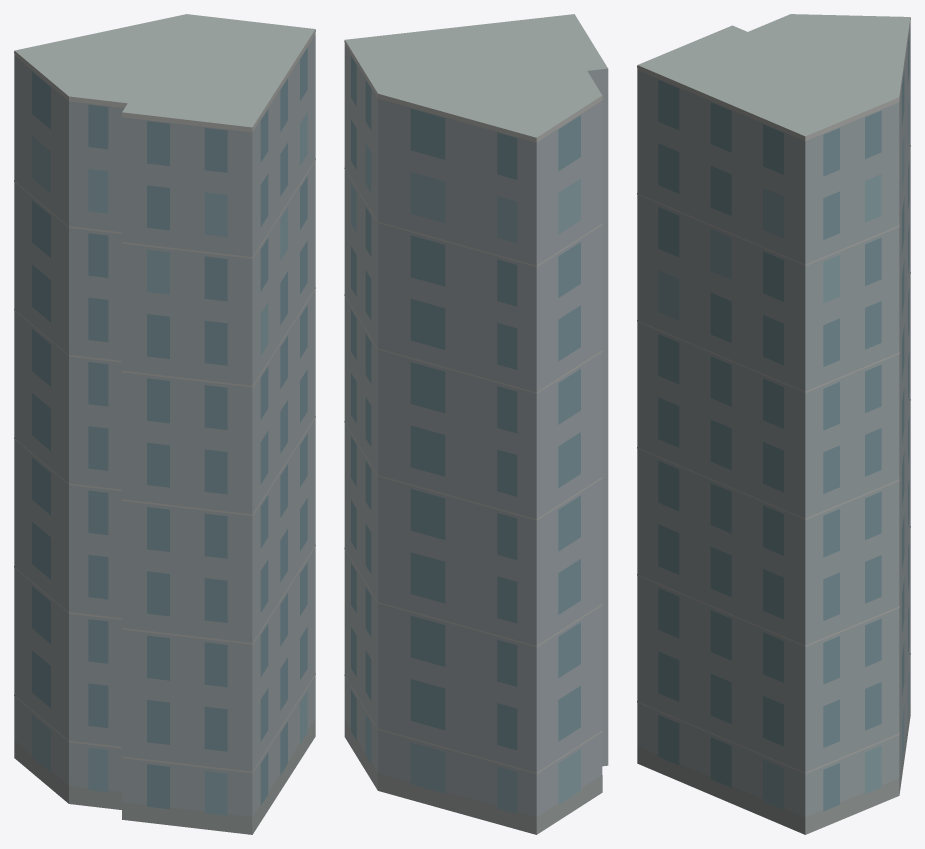
The model's file is survey-upis-33001188.glb.
The picture shows the model from 3 angles, left to right: view 1: azimuth 30°, elevation 25°; view 2: azimuth 150°, elevation 25°; view 3: azimuth 270°, elevation 25°; orthographic projection.
Parts seen in each view (by area): view 1: survey-upis-33001188.tmp; view 2: survey-upis-33001188.tmp; view 3: survey-upis-33001188.tmp.
Boxes of the visible parts, left/top/right/bottom form: survey-upis-33001188.tmp: left=14, top=14, right=315, bottom=834; survey-upis-33001188.tmp: left=344, top=14, right=608, bottom=834; survey-upis-33001188.tmp: left=637, top=14, right=910, bottom=834.
Bounding box in the file's own units: 13.16 × 34.95 × 12.41.
